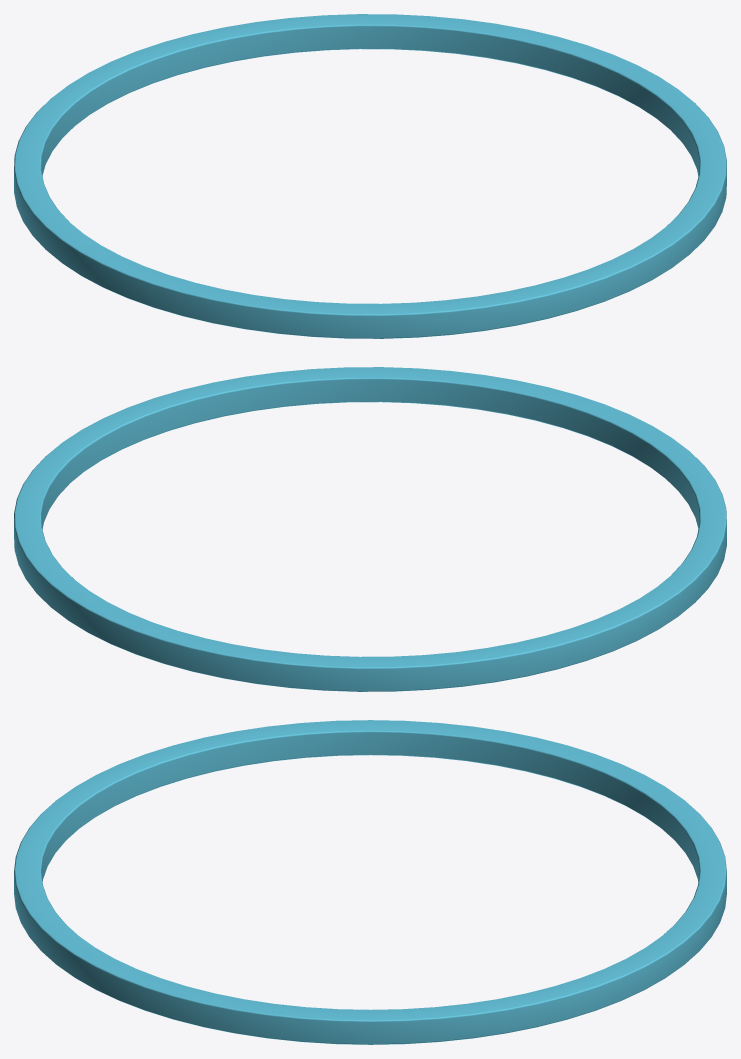
3 views of the same model, one above another, from view 1: azimuth 30°, elevation 25°; view 2: azimuth 150°, elevation 25°; view 3: azimuth 270°, elevation 25° (orthographic).
Parts seen in each view (by area): view 1: seal_body; view 2: seal_body; view 3: seal_body.
Boxes of the visible parts, x1=… form: seal_body: x1=14, y1=14, x2=726, y2=338; seal_body: x1=14, y1=367, x2=726, y2=691; seal_body: x1=14, y1=720, x2=726, y2=1044.
Bounding box in the file's own units: 0.1238 × 0.00476 × 0.1238.
